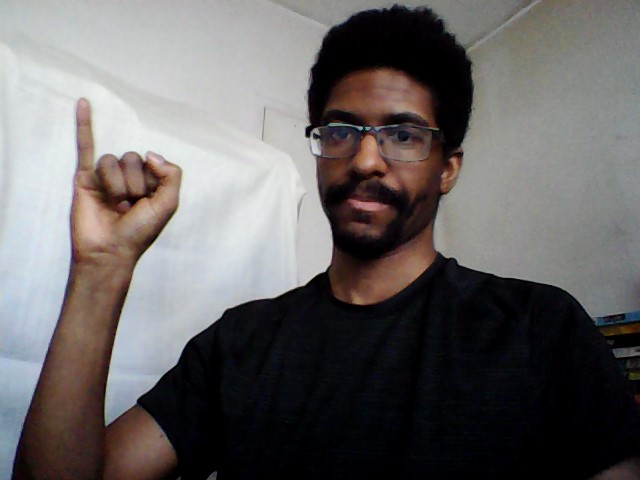i: (64, 96, 186, 271)
